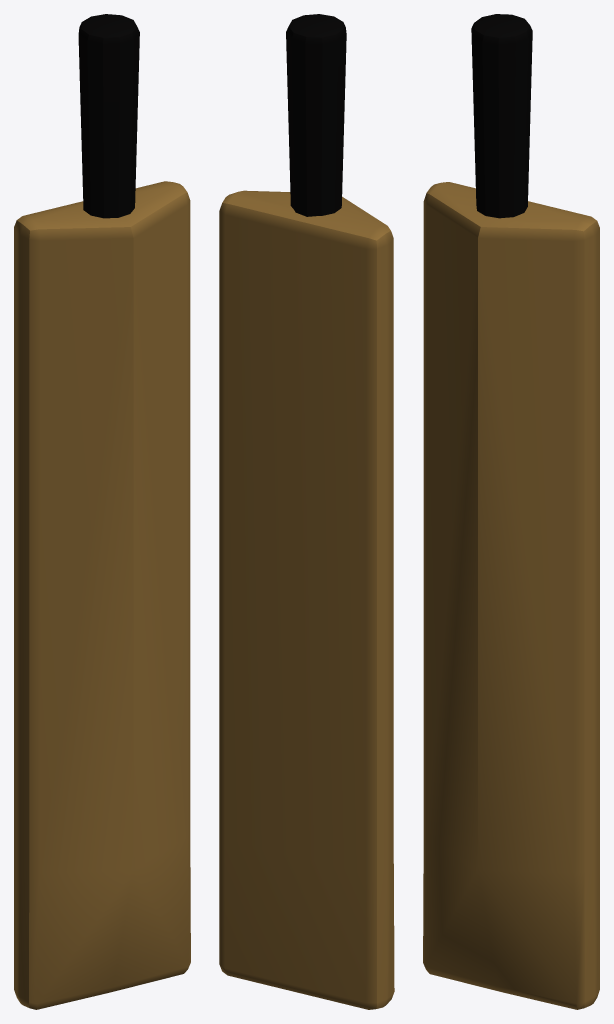
The model's file is Sports_Cricket Bat.fbx.
3 views of the same model, side by side, from view 1: azimuth 30°, elevation 25°; view 2: azimuth 150°, elevation 25°; view 3: azimuth 330°, elevation 25° (orthographic).
Parts seen in each view (by area): view 1: pasted__pCylinder19; view 2: pasted__pCylinder19; view 3: pasted__pCylinder19.
Boxes of the visible parts, x1,y1,x2,y2 form: pasted__pCylinder19: (14,14,190,1009); pasted__pCylinder19: (219,14,394,1009); pasted__pCylinder19: (423,14,599,1009).
Bounding box in the file's own units: 0.4828 × 2.7 × 0.2204.
